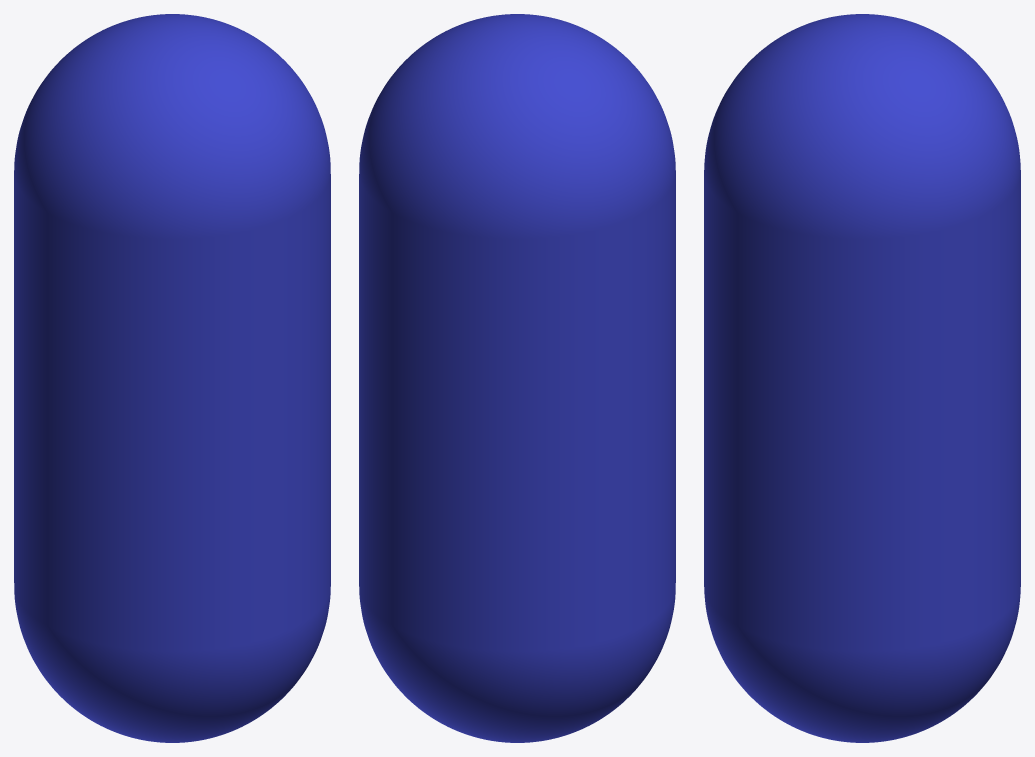
Rendered from hear.fbx.
The picture shows the model from 3 angles, left to right: view 1: azimuth 30°, elevation 25°; view 2: azimuth 150°, elevation 25°; view 3: azimuth 270°, elevation 25°; orthographic projection.
Parts seen in each view (by area): view 1: root; view 2: root; view 3: root.
Part boxes in pixels (left/top/right/bottom): root: left=14, top=14, right=330, bottom=742; root: left=359, top=14, right=675, bottom=742; root: left=704, top=14, right=1020, bottom=742.
Bounding box in the file's own units: 0.2511 × 0.6116 × 0.2511.
